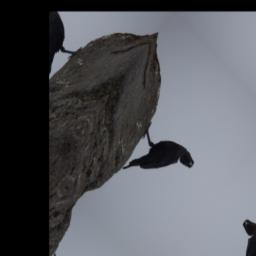Crow: (117, 116, 198, 210)
